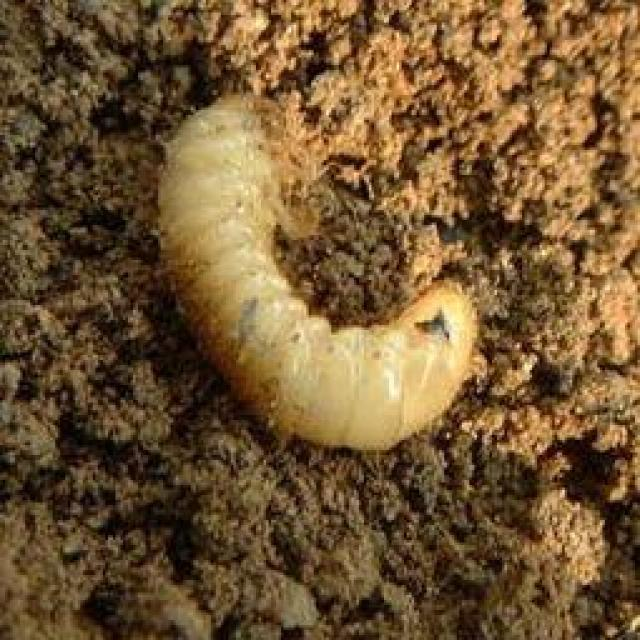Grub-Adult-: (111, 68, 497, 474)
